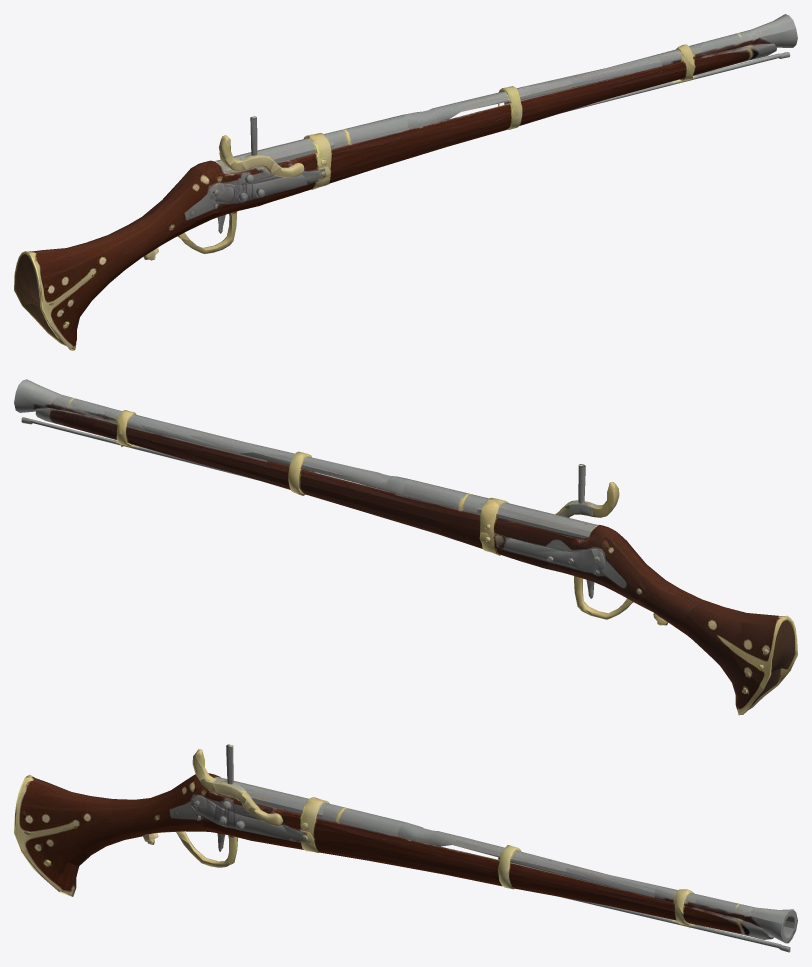
Rendered from matchlock-arquebus.glb.
3 views of the same model, one above another, from view 1: azimuth 30°, elevation 25°; view 2: azimuth 150°, elevation 25°; view 3: azimuth 330°, elevation 25° (orthographic).
Parts seen in each view (by area): view 1: mesh_node; view 2: mesh_node; view 3: mesh_node.
Boxes of the visible parts, x1,y1,x2,y2 form: mesh_node: (14, 14, 797, 350); mesh_node: (14, 379, 797, 715); mesh_node: (14, 744, 797, 952).
Bounding box in the file's own units: 1.35 × 0.3401 × 0.0896.
1 material, 1 textured.
